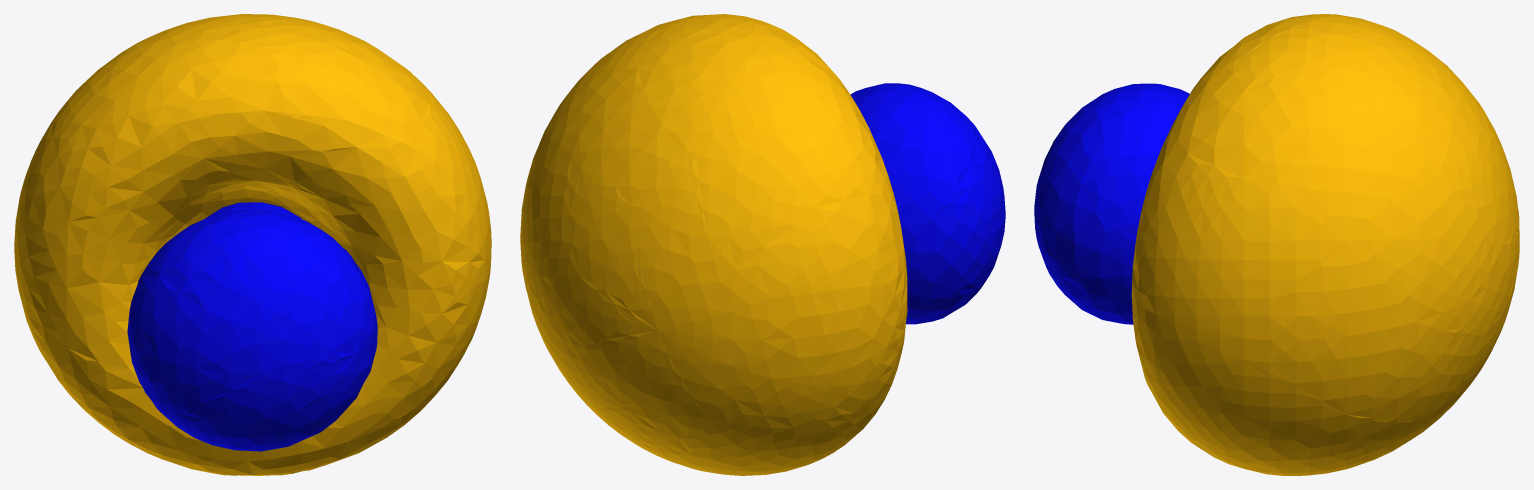
The picture shows the model from 3 angles, left to right: view 1: azimuth 30°, elevation 25°; view 2: azimuth 150°, elevation 25°; view 3: azimuth 270°, elevation 25°; orthographic projection. The views are drawn at different scales.
Bounding box in the file's own units: 19.15 × 20.03 × 20.9.
